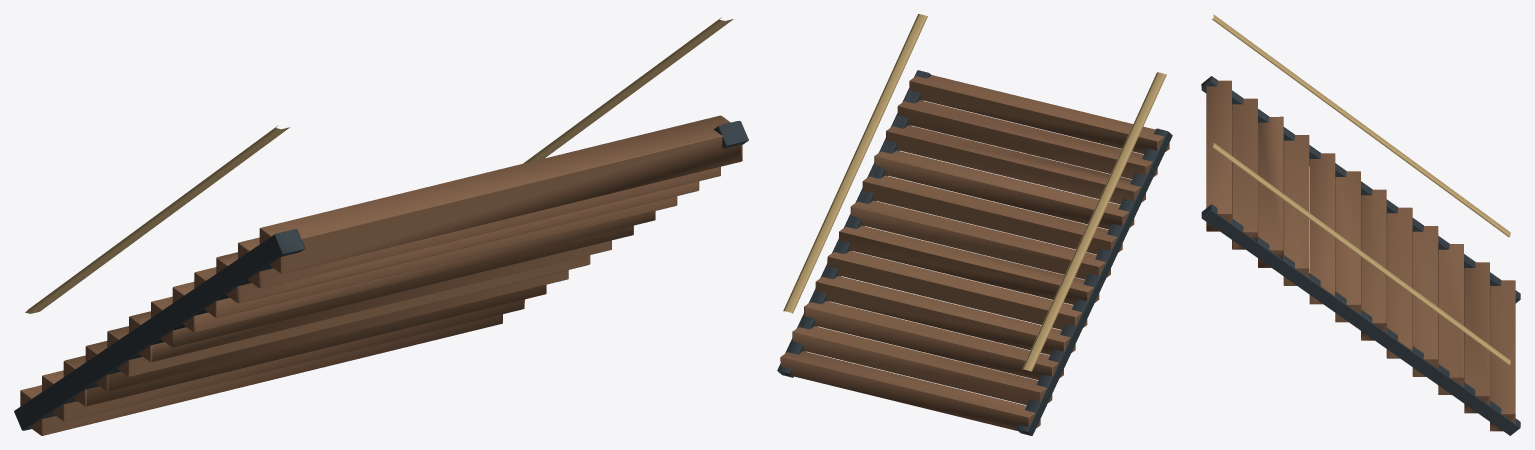
Rendered from stairs-18-1.lod.glb.
The picture shows the model from 3 angles, left to right: view 1: azimuth 30°, elevation 25°; view 2: azimuth 150°, elevation 25°; view 3: azimuth 270°, elevation 25°; orthographic projection. The views are drawn at different scales.
Visible parts, largest first — view 1: tread, closed-stringer, part; view 2: tread, part, closed-stringer; view 3: tread, closed-stringer, part.
Part boxes in pixels (x1,y1,x2,y2): tread: (20, 115, 742, 435); closed-stringer: (14, 121, 748, 430); part: (25, 17, 733, 313); tread: (780, 75, 1169, 430); part: (783, 14, 1166, 371); closed-stringer: (777, 70, 1172, 435); tread: (1206, 80, 1515, 431); closed-stringer: (1201, 76, 1520, 435); part: (1212, 14, 1510, 365).
Bounding box in the file's own units: 1 × 1 × 1.
